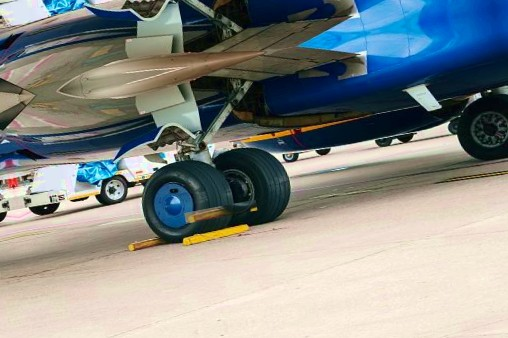chock: (184, 200, 258, 224), (181, 222, 254, 246), (125, 230, 190, 252)
wheel: (133, 152, 238, 247), (206, 140, 296, 230), (450, 92, 508, 165), (92, 174, 130, 207), (28, 201, 60, 217), (446, 118, 462, 136), (93, 192, 110, 206), (281, 151, 299, 163), (375, 137, 393, 148), (397, 133, 414, 143), (69, 195, 88, 203), (315, 147, 331, 156), (126, 180, 137, 187)
